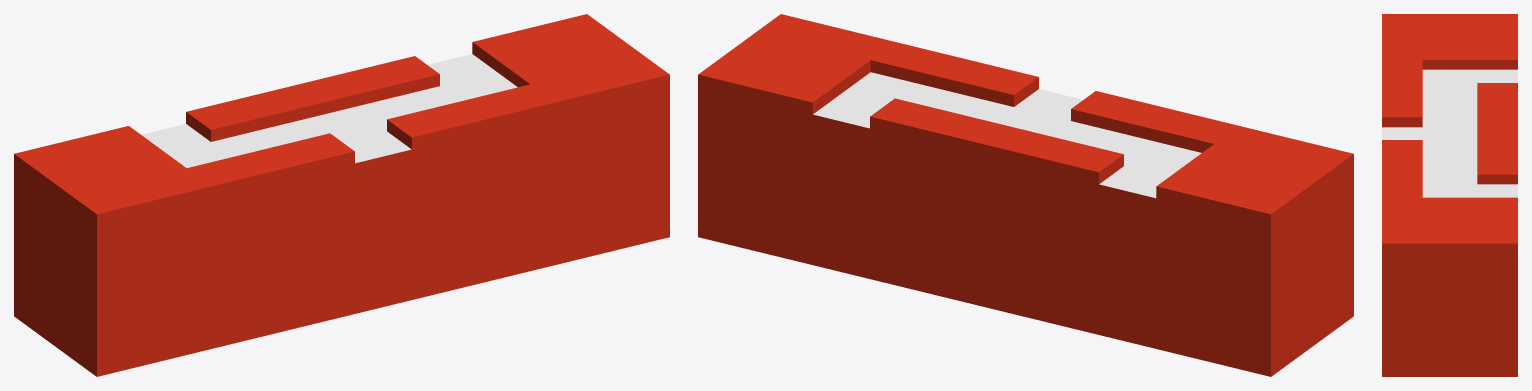
The model's file is model-1767380915527-2liparalel.glb.
The picture shows the model from 3 angles, left to right: view 1: azimuth 30°, elevation 25°; view 2: azimuth 150°, elevation 25°; view 3: azimuth 270°, elevation 25°; orthographic projection. The views are drawn at different scales.
Visible parts, largest first — view 1: Seri.021; view 2: Seri.021; view 3: Seri.021.
Boxes of the visible parts, x1,y1,x2,y2 form: Seri.021: [14, 14, 669, 376]; Seri.021: [698, 14, 1353, 376]; Seri.021: [1382, 14, 1517, 376].
Size of the model in its own units: 5 by 1.35 by 1.25.
